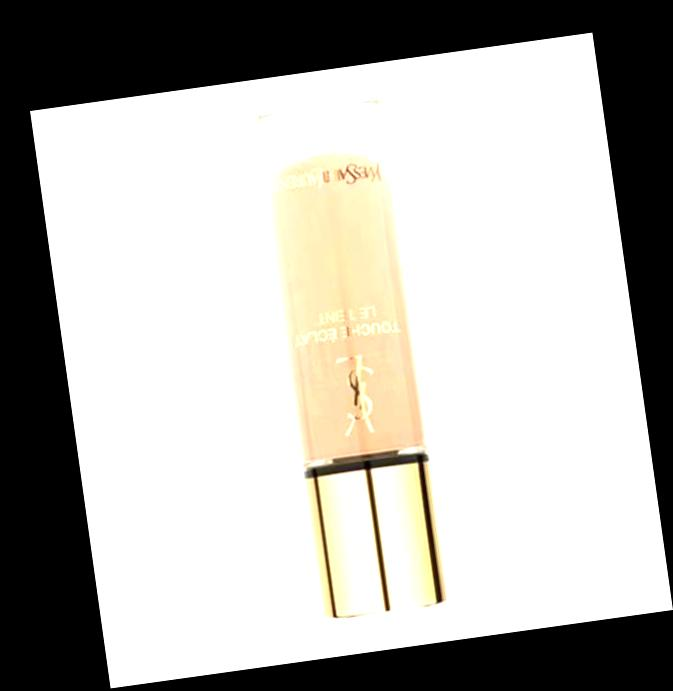cosmetic: (245, 86, 452, 625)
